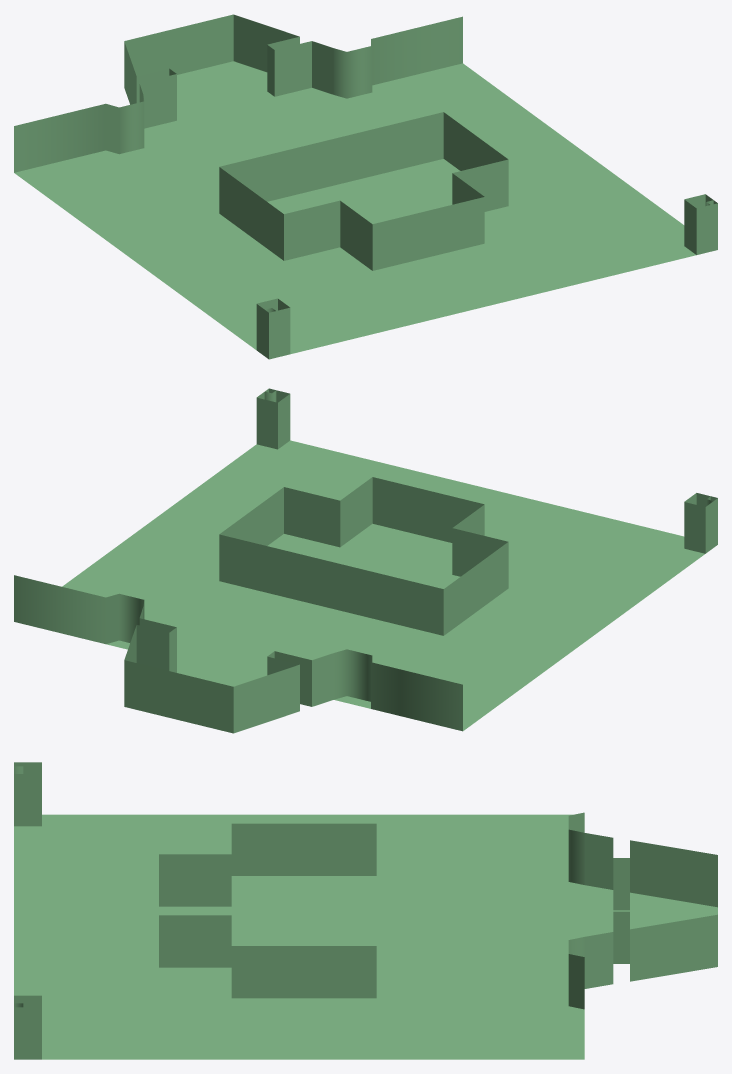
File: Hallway_T_16_A_COL.fbx
3 renders of one model, top to bottom at view 1: azimuth 30°, elevation 25°; view 2: azimuth 150°, elevation 25°; view 3: azimuth 270°, elevation 25°, orthographic. The views are drawn at different scales.
Parts seen in each view (by area): view 1: Hallway_T_16_A_COL; view 2: Hallway_T_16_A_COL; view 3: Hallway_T_16_A_COL.
Boxes of the visible parts, x1,y1,x2,y2 form: Hallway_T_16_A_COL: (14,14,717,359); Hallway_T_16_A_COL: (14,388,717,733); Hallway_T_16_A_COL: (14,762,717,1059).
Size of the model in its own units: 1600 by 159 by 1941.
